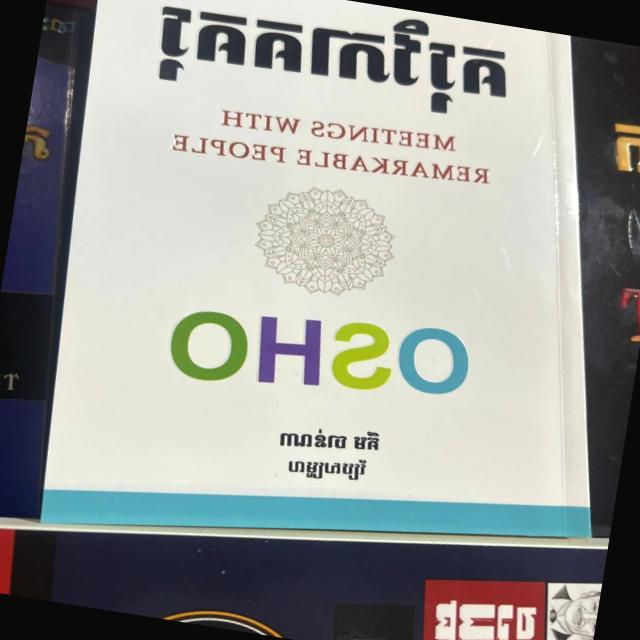1: (280, 422, 384, 460)
Yolov11kh: (148, 0, 517, 131), (283, 459, 377, 483)
